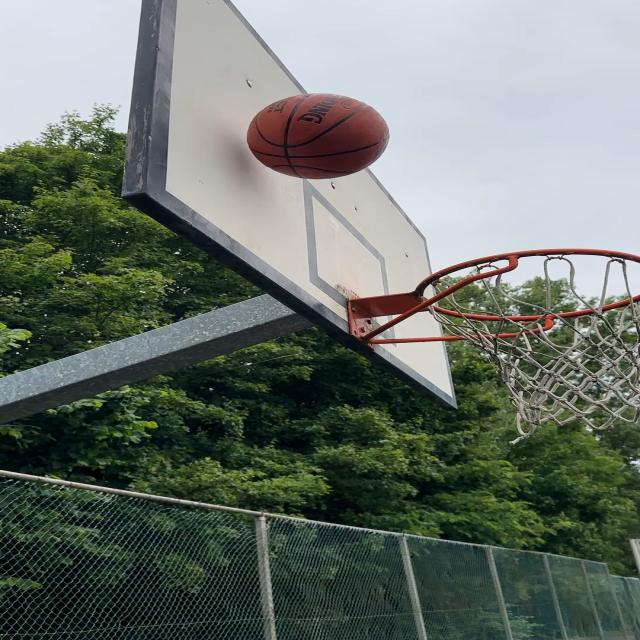Basketball: (248, 92, 389, 180)
